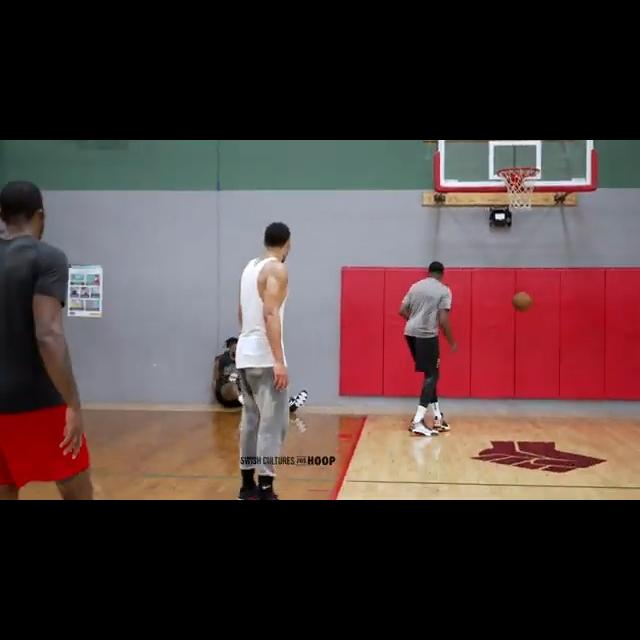basketball: (511, 289, 534, 312)
hoop: (496, 167, 543, 211)
